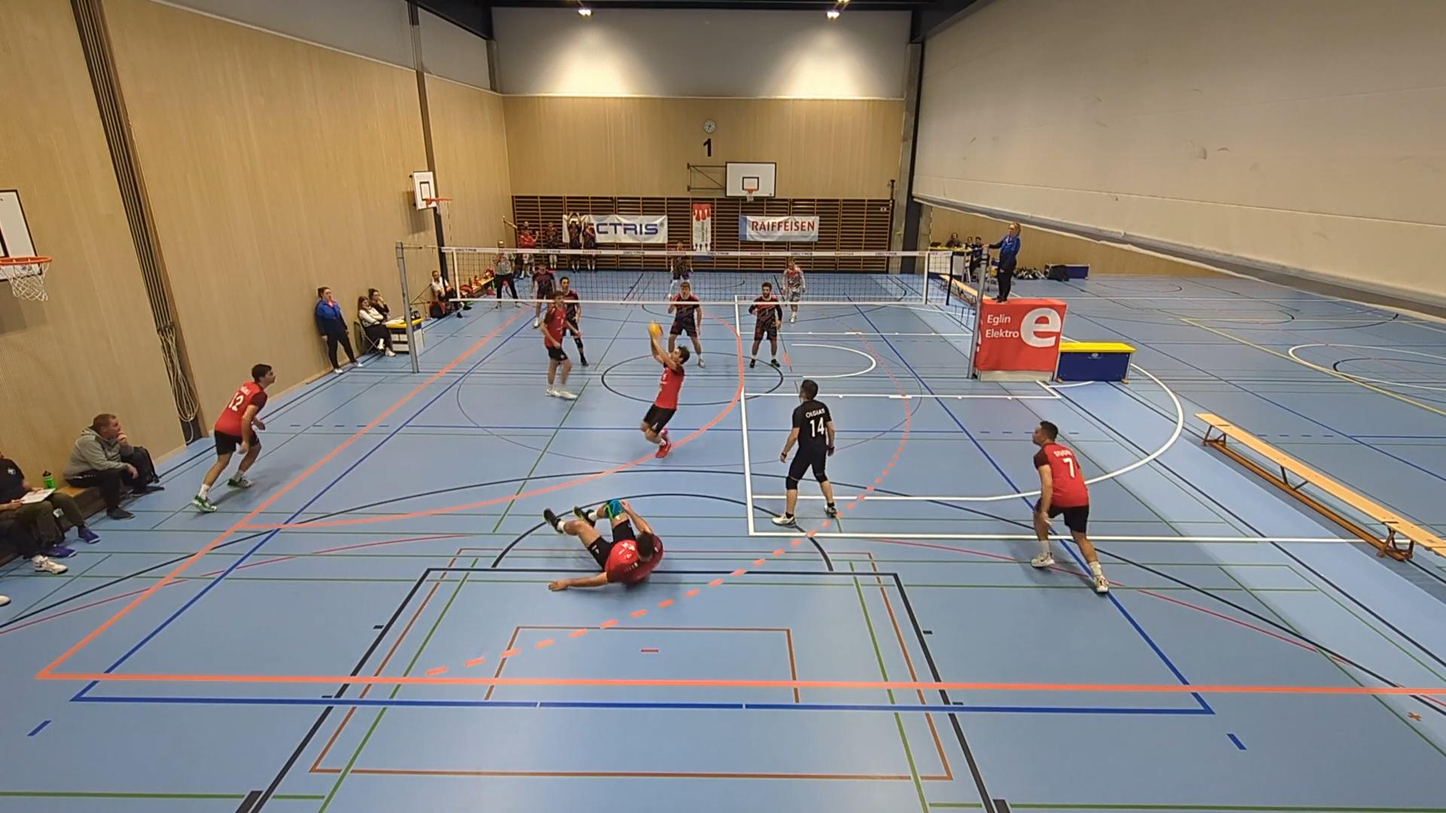Dig: (639, 319, 691, 459)
Player: (1031, 422, 1109, 594), (192, 364, 275, 512), (544, 500, 662, 590), (772, 379, 837, 525), (542, 293, 579, 400), (668, 280, 704, 367), (749, 282, 781, 367), (558, 276, 587, 367), (782, 258, 805, 322), (532, 266, 555, 328), (670, 254, 691, 296)
ball: (648, 319, 666, 341)
